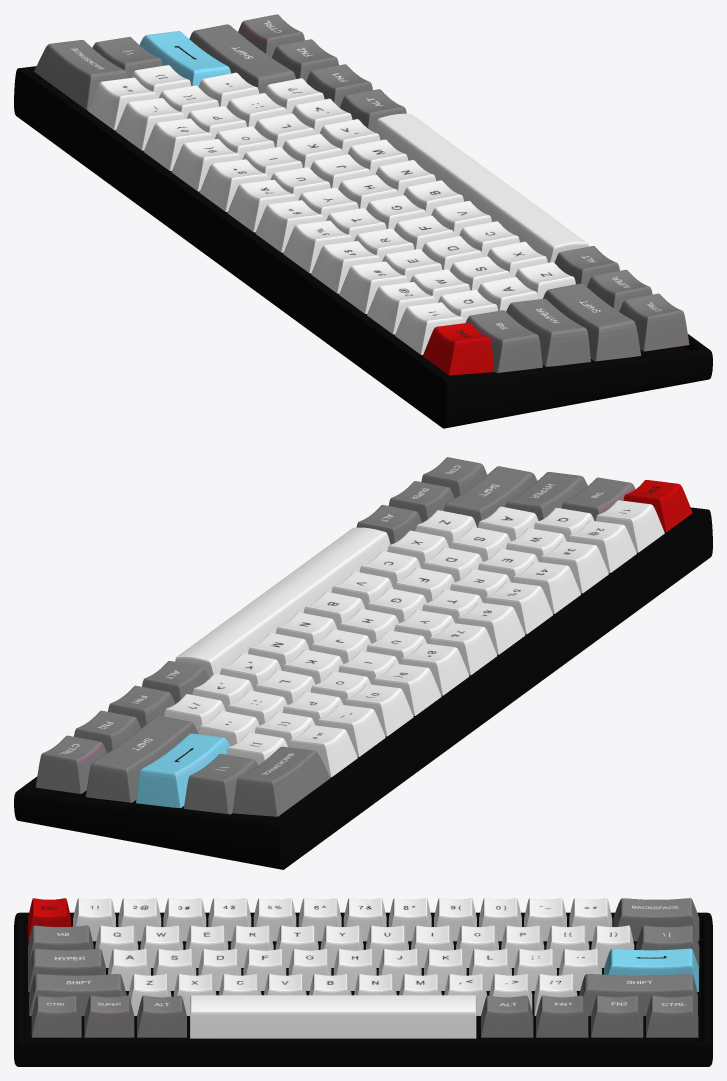
The model's file is 60_Keyboard_1_minimalist_1-transformed.glb.
The picture shows the model from 3 angles, top to bottom: view 1: azimuth 30°, elevation 25°; view 2: azimuth 150°, elevation 25°; view 3: azimuth 270°, elevation 25°; orthographic projection. The views are drawn at different scales.
Visible parts, largest first — view 1: Plane; view 2: Plane; view 3: Plane.
Boxes of the visible parts, x1=… form: Plane: x1=14, y1=14, x2=712, y2=428; Plane: x1=14, y1=457, x2=712, y2=869; Plane: x1=14, y1=898, x2=712, y2=1066.
Size of the model in its own units: 4.25 by 1.38 by 11.86.
2 materials, 1 textured.
